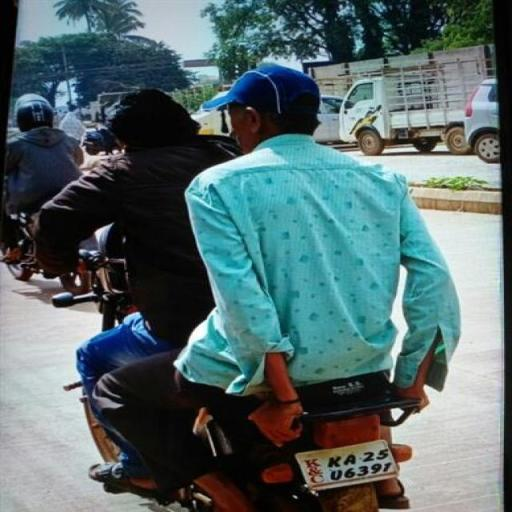numberplate: (290, 426, 399, 497)
using mobile: (111, 146, 147, 156)
